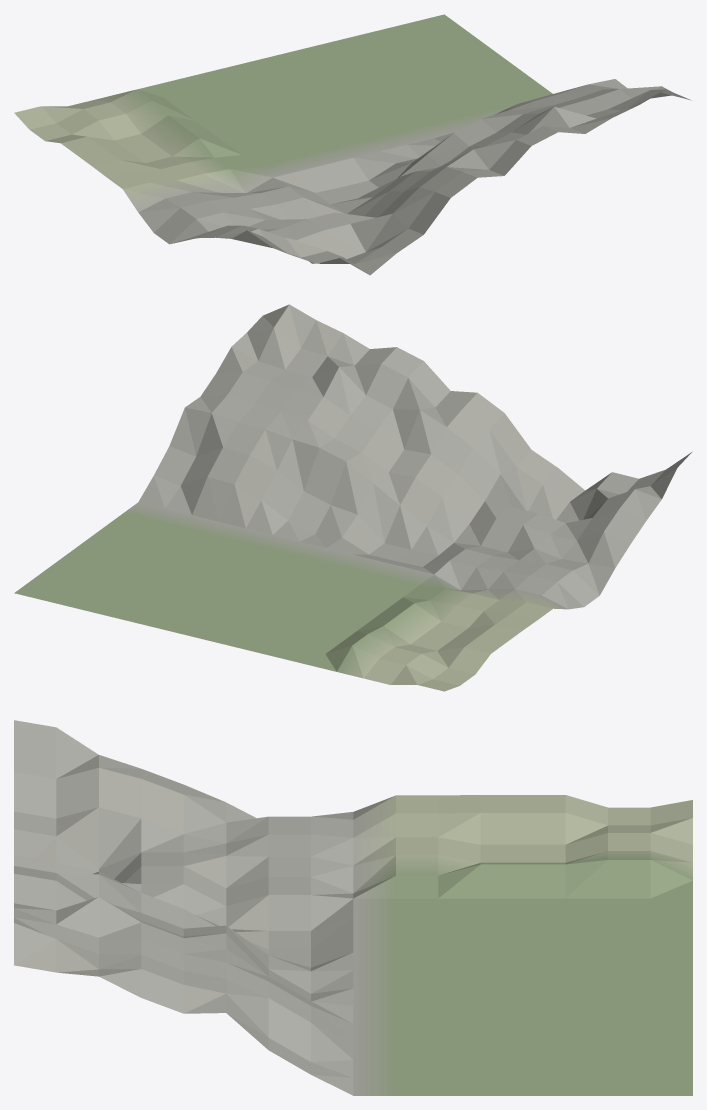
3 views of the same model, one above another, from view 1: azimuth 30°, elevation 25°; view 2: azimuth 150°, elevation 25°; view 3: azimuth 270°, elevation 25° (orthographic). The views are drawn at different scales.
Bounding box in the file's own units: 32 × 8.86 × 32.
